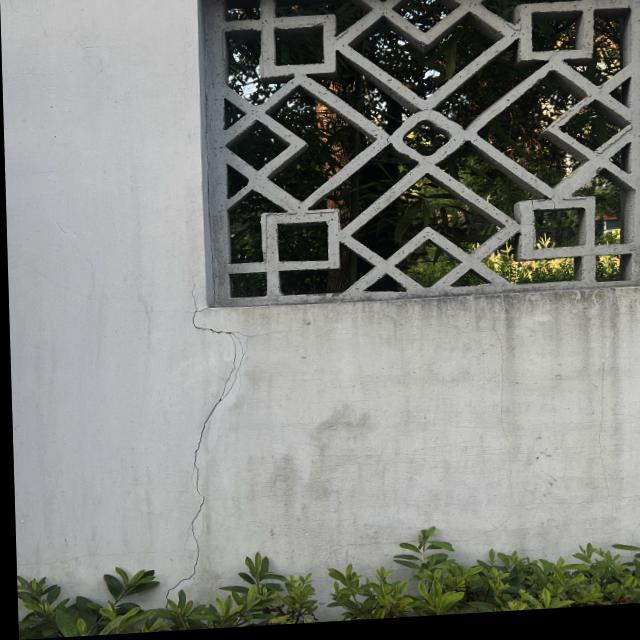crack: (137, 329, 297, 585)
